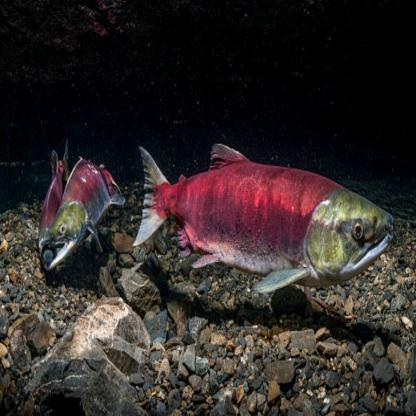sockeye: (137, 128, 396, 294), (38, 150, 123, 280)
